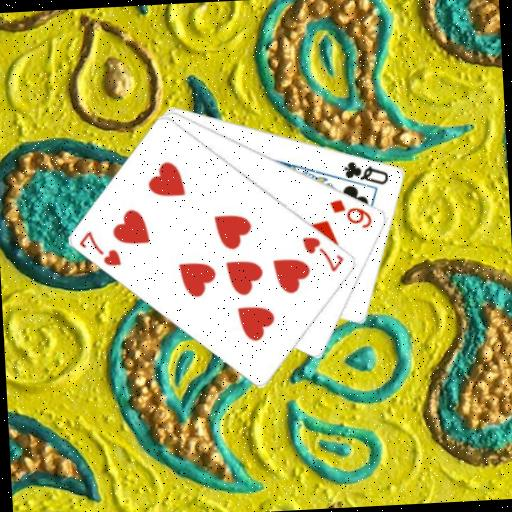6D: (326, 195, 375, 232)
7H: (76, 226, 125, 269), (299, 232, 347, 275)
QC: (340, 156, 392, 189)
